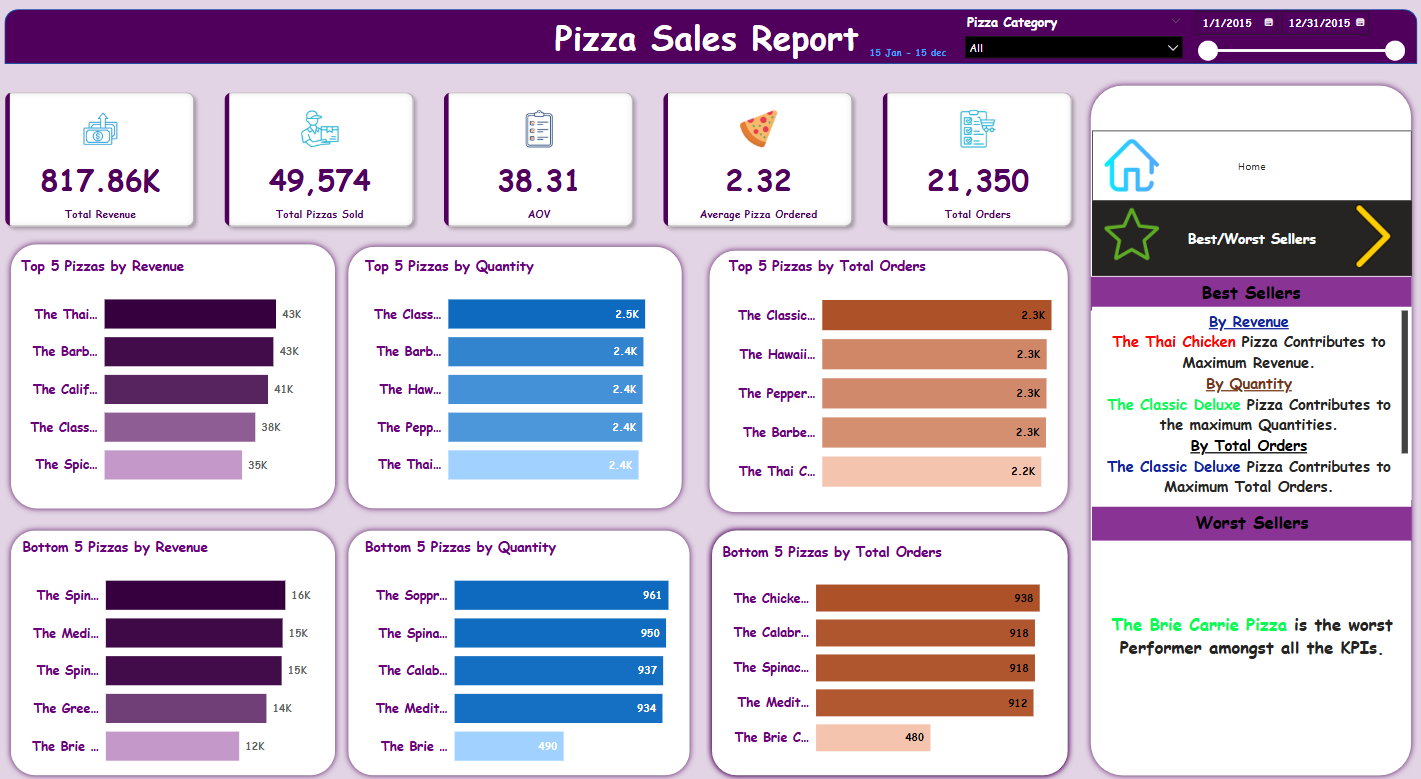

The dashboard page shown, as its layout file describes it:
{"tool":"powerbi","page":{"name":"Best/Worst Sellers","canvas":[1834,1000],"ordinal":1},"visuals":[{"type":"cardVisual","fields":{"Data":["pizza_sales.Total Revenue","pizza_sales.Total Pizzas Sold","pizza_sales.AOV","pizza_sales.Average Pizza Ordered","pizza_sales.Total Orders"]},"box":[0,103.3,1395,205],"z":0},{"type":"shape","box":[16.7,15,1803.3,70],"z":1000},{"type":"textbox","box":[675,15,475,70],"z":2000},{"type":"textbox","box":[1115,55,130,30],"z":3000},{"type":"shape","box":[16.7,306.7,430,353.3],"z":4000},{"type":"shape","box":[446.7,310,441.7,350],"z":5000},{"type":"shape","box":[16.7,671.7,430,328.3],"z":6000},{"type":"shape","box":[446.7,671.7,451.7,328.3],"z":7000},{"type":"shape","box":[911.7,671.7,470,328.3],"z":8000},{"type":"shape","box":[1395,103.3,425,896.7],"z":9000},{"type":"textbox","box":[1403,355,409,43],"z":10000},{"type":"textbox","box":[1403.3,393.3,408.3,246.7],"z":11000},{"type":"textbox","box":[1403.3,650,408.3,43.3],"z":12000},{"type":"textbox","box":[1403.3,780,408.3,108.3],"z":13000},{"type":"slicer","fields":{"Values":["pizza_sales.pizza_category"]},"box":[1231.7,15,298.3,63.3],"z":14000},{"type":"slicer","fields":{"Values":["pizza_sales.order_date"]},"box":[1523.3,6.7,288.3,88.3],"z":15000},{"type":"shape","box":[908.3,315,473.3,350],"z":16000},{"type":"barChart","title":"Top 5 Pizzas by Revenue","fields":{"Category":["pizza_sales.pizza_name"],"Y":["pizza_sales.Total Revenue"]},"box":[31.7,328.3,395,311.7],"z":17000},{"type":"barChart","title":"Bottom 5 Pizzas by Revenue","fields":{"Category":["pizza_sales.pizza_name"],"Y":["pizza_sales.Total Revenue"]},"box":[33.3,688.3,395,311.7],"z":18000},{"type":"barChart","title":"Top 5 Pizzas by Quantity","fields":{"Category":["pizza_sales.pizza_name"],"Y":["pizza_sales.Total Pizzas Sold"]},"box":[470,328.3,395,311.7],"z":19000},{"type":"barChart","title":"Bottom 5 Pizzas by Quantity","fields":{"Category":["pizza_sales.pizza_name"],"Y":["pizza_sales.Total Pizzas Sold"]},"box":[470,688.3,428.3,311.7],"z":20000},{"type":"barChart","title":"Top 5 Pizzas by Total Orders","fields":{"Category":["pizza_sales.pizza_name"],"Y":["pizza_sales.Total Orders"]},"box":[935,328.3,446.7,321.7],"z":21000},{"type":"shape","box":[911.7,671.7,470,328.3],"z":22000},{"type":"barChart","title":"Bottom 5 Pizzas by Total Orders","fields":{"Category":["pizza_sales.pizza_name"],"Y":["pizza_sales.Total Orders"]},"box":[926.7,693.3,446.7,291.7],"z":23000},{"type":"pageNavigator","box":[1403.3,258.3,408.3,96.7],"z":24000},{"type":"pageNavigator","box":[1403.3,168.3,408.3,90],"z":25000},{"type":"image","box":[1715,258.3,96.7,91.7],"z":26000},{"type":"image","box":[1415.1,170.7,79.8,86.2],"z":27000},{"type":"image","box":[1415.1,258.5,79.8,86.2],"z":28000}]}

Visuals, with their boxes in screenshot pixels (x1, y1, x2, y2), scaled from the page's 1834x1000 canvas onto the 1421x779 screenshot:
cardVisual - pizza_sales.Total Revenue x pizza_sales.Total Pizzas Sold: Rect(0, 80, 1081, 240)
shape: Rect(13, 12, 1410, 66)
textbox: Rect(523, 12, 891, 66)
textbox: Rect(864, 43, 965, 66)
shape: Rect(13, 239, 346, 514)
shape: Rect(346, 241, 688, 514)
shape: Rect(13, 523, 346, 778)
shape: Rect(346, 523, 696, 778)
shape: Rect(706, 523, 1071, 778)
shape: Rect(1081, 80, 1410, 778)
textbox: Rect(1087, 277, 1404, 310)
textbox: Rect(1087, 306, 1404, 499)
textbox: Rect(1087, 506, 1404, 540)
textbox: Rect(1087, 608, 1404, 692)
slicer - pizza_sales.pizza_category: Rect(954, 12, 1185, 61)
slicer - pizza_sales.order_date: Rect(1180, 5, 1404, 74)
shape: Rect(704, 245, 1070, 518)
"Top 5 Pizzas by Revenue" barChart: Rect(25, 256, 331, 499)
"Bottom 5 Pizzas by Revenue" barChart: Rect(26, 536, 332, 778)
"Top 5 Pizzas by Quantity" barChart: Rect(364, 256, 670, 499)
"Bottom 5 Pizzas by Quantity" barChart: Rect(364, 536, 696, 778)
"Top 5 Pizzas by Total Orders" barChart: Rect(724, 256, 1071, 506)
shape: Rect(706, 523, 1071, 778)
"Bottom 5 Pizzas by Total Orders" barChart: Rect(718, 540, 1064, 767)
pageNavigator: Rect(1087, 201, 1404, 277)
pageNavigator: Rect(1087, 131, 1404, 201)
image: Rect(1329, 201, 1404, 273)
image: Rect(1096, 133, 1158, 200)
image: Rect(1096, 201, 1158, 269)
